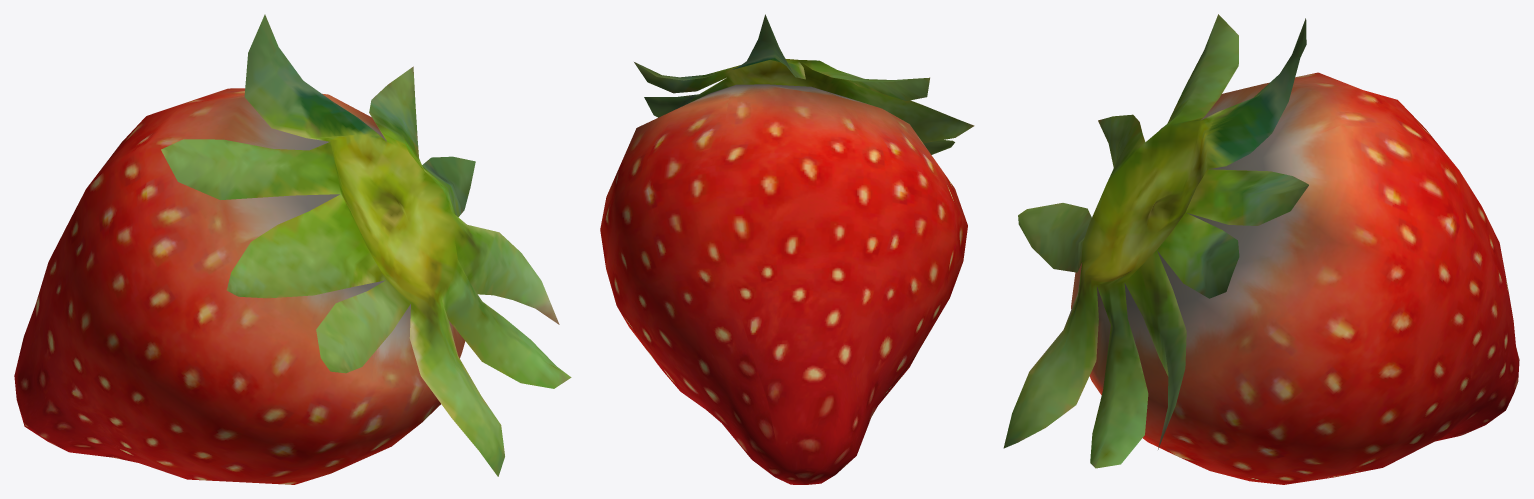
File: Mendiane.glb
The picture shows the model from 3 angles, left to right: view 1: azimuth 30°, elevation 25°; view 2: azimuth 150°, elevation 25°; view 3: azimuth 270°, elevation 25°; orthographic projection. The views are drawn at different scales.
Parts seen in each view (by area): view 1: strawberry_body__body_m, strawberry_body__heta_m; view 2: strawberry_body__body_m, strawberry_body__heta_m; view 3: strawberry_body__body_m, strawberry_body__heta_m.
Part boxes in pixels (x1,y1,x2,y2): strawberry_body__body_m: [14, 88, 465, 484]; strawberry_body__heta_m: [161, 14, 571, 476]; strawberry_body__body_m: [600, 84, 967, 484]; strawberry_body__heta_m: [634, 14, 974, 154]; strawberry_body__body_m: [1071, 72, 1519, 484]; strawberry_body__heta_m: [1003, 14, 1308, 468].
Bounding box in the file's own units: 0.7706 × 0.8092 × 0.8096.
2 materials, 2 textured.
